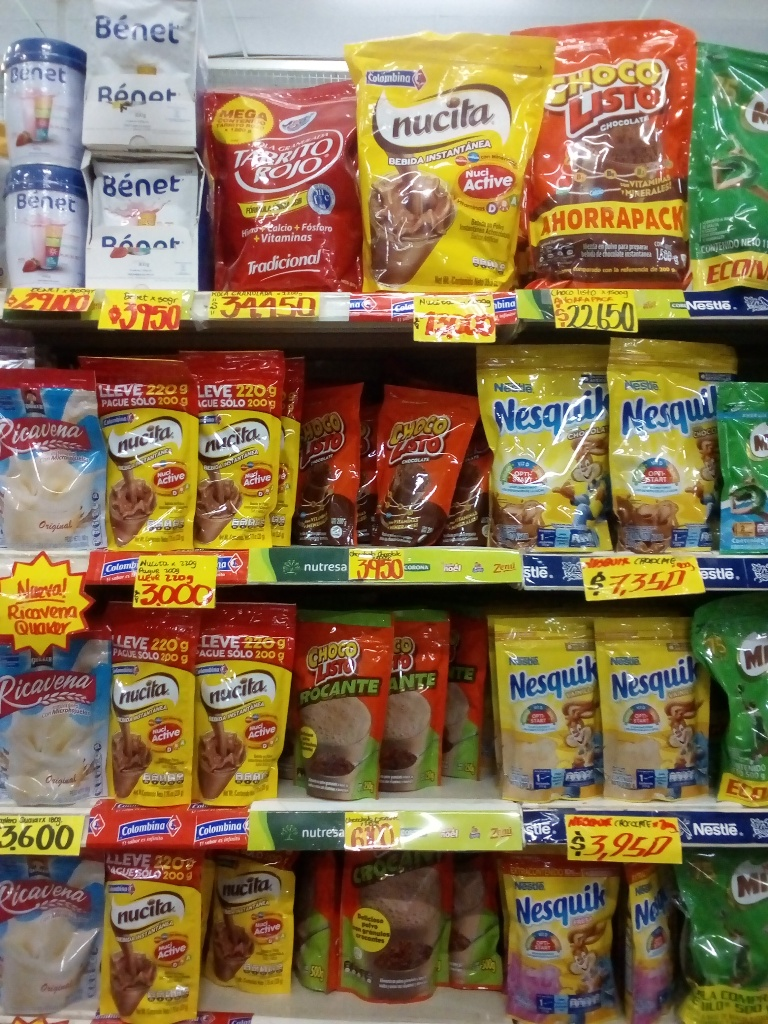COL0170102DYP25000: (287, 596, 395, 811)
COL0170102DYP50000: (335, 855, 456, 1008)
COL0170103DYP1,500: (515, 13, 696, 290)
COL0170203DYP50000: (676, 858, 768, 1023)
COL0170205DYP20000: (715, 380, 768, 554)
COL0170306DYP20000: (490, 615, 600, 806)
